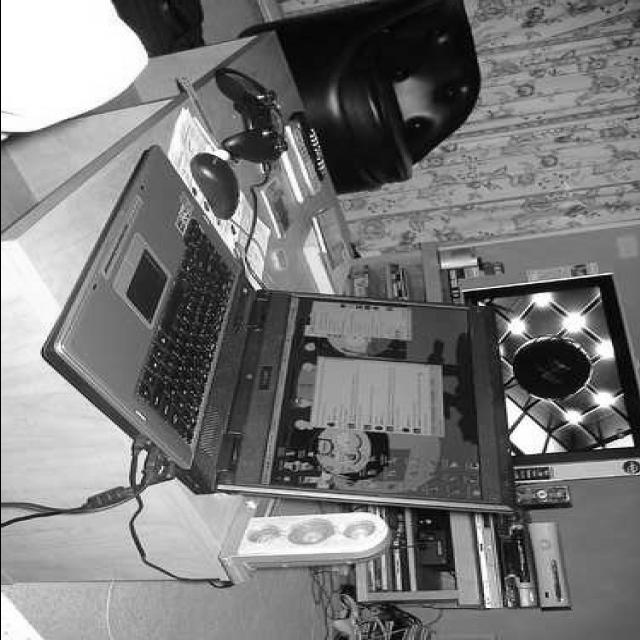laptop: (78, 139, 515, 523)
